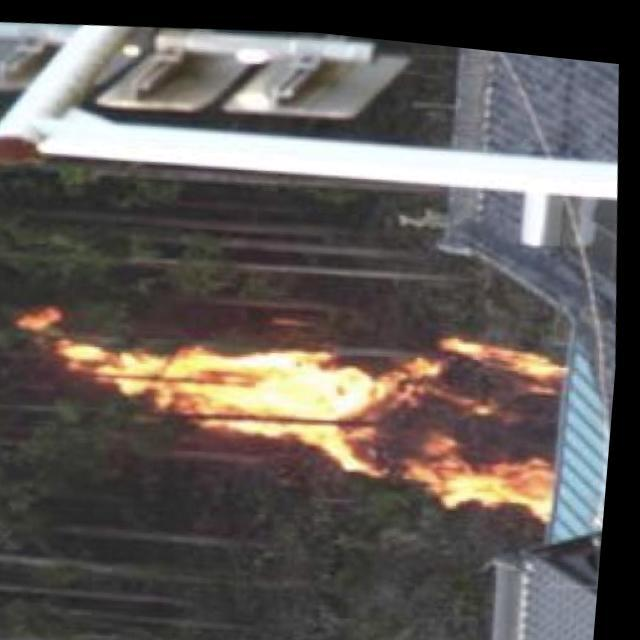fire: (24, 285, 584, 543)
